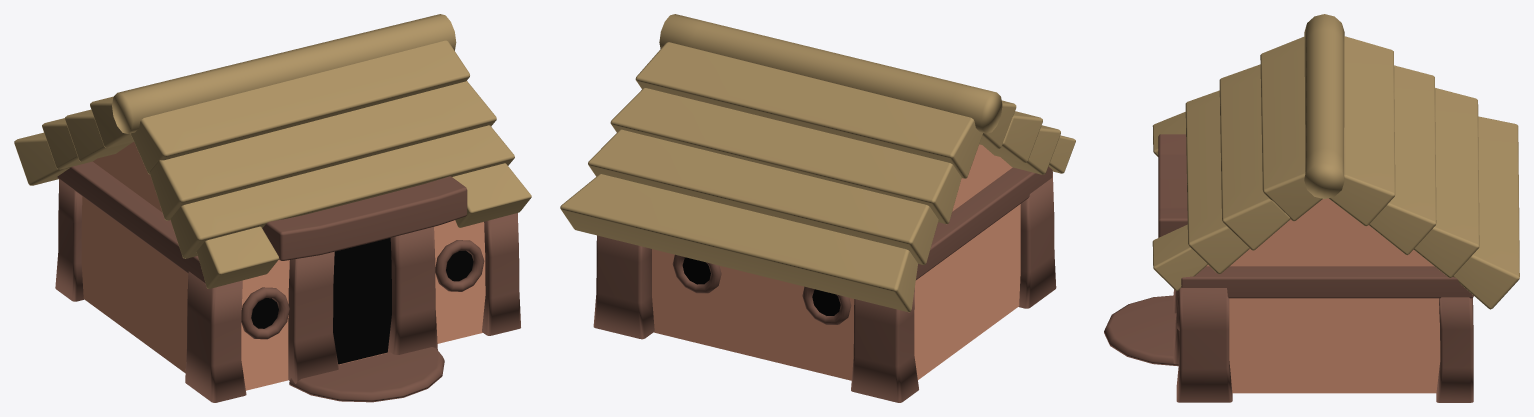
The model's file is SM_Fare.fbx.
The picture shows the model from 3 angles, left to right: view 1: azimuth 30°, elevation 25°; view 2: azimuth 150°, elevation 25°; view 3: azimuth 270°, elevation 25°; orthographic projection. The views are drawn at different scales.
Parts seen in each view (by area): view 1: SM_Fare_Hiro; view 2: SM_Fare_Hiro; view 3: SM_Fare_Hiro.
Boxes of the visible parts, box(x1,y1,x2,y2) form: SM_Fare_Hiro: box(14, 14, 531, 402); SM_Fare_Hiro: box(560, 14, 1075, 402); SM_Fare_Hiro: box(1104, 14, 1519, 402).
Bounding box in the file's own units: 407 × 297 × 459.
